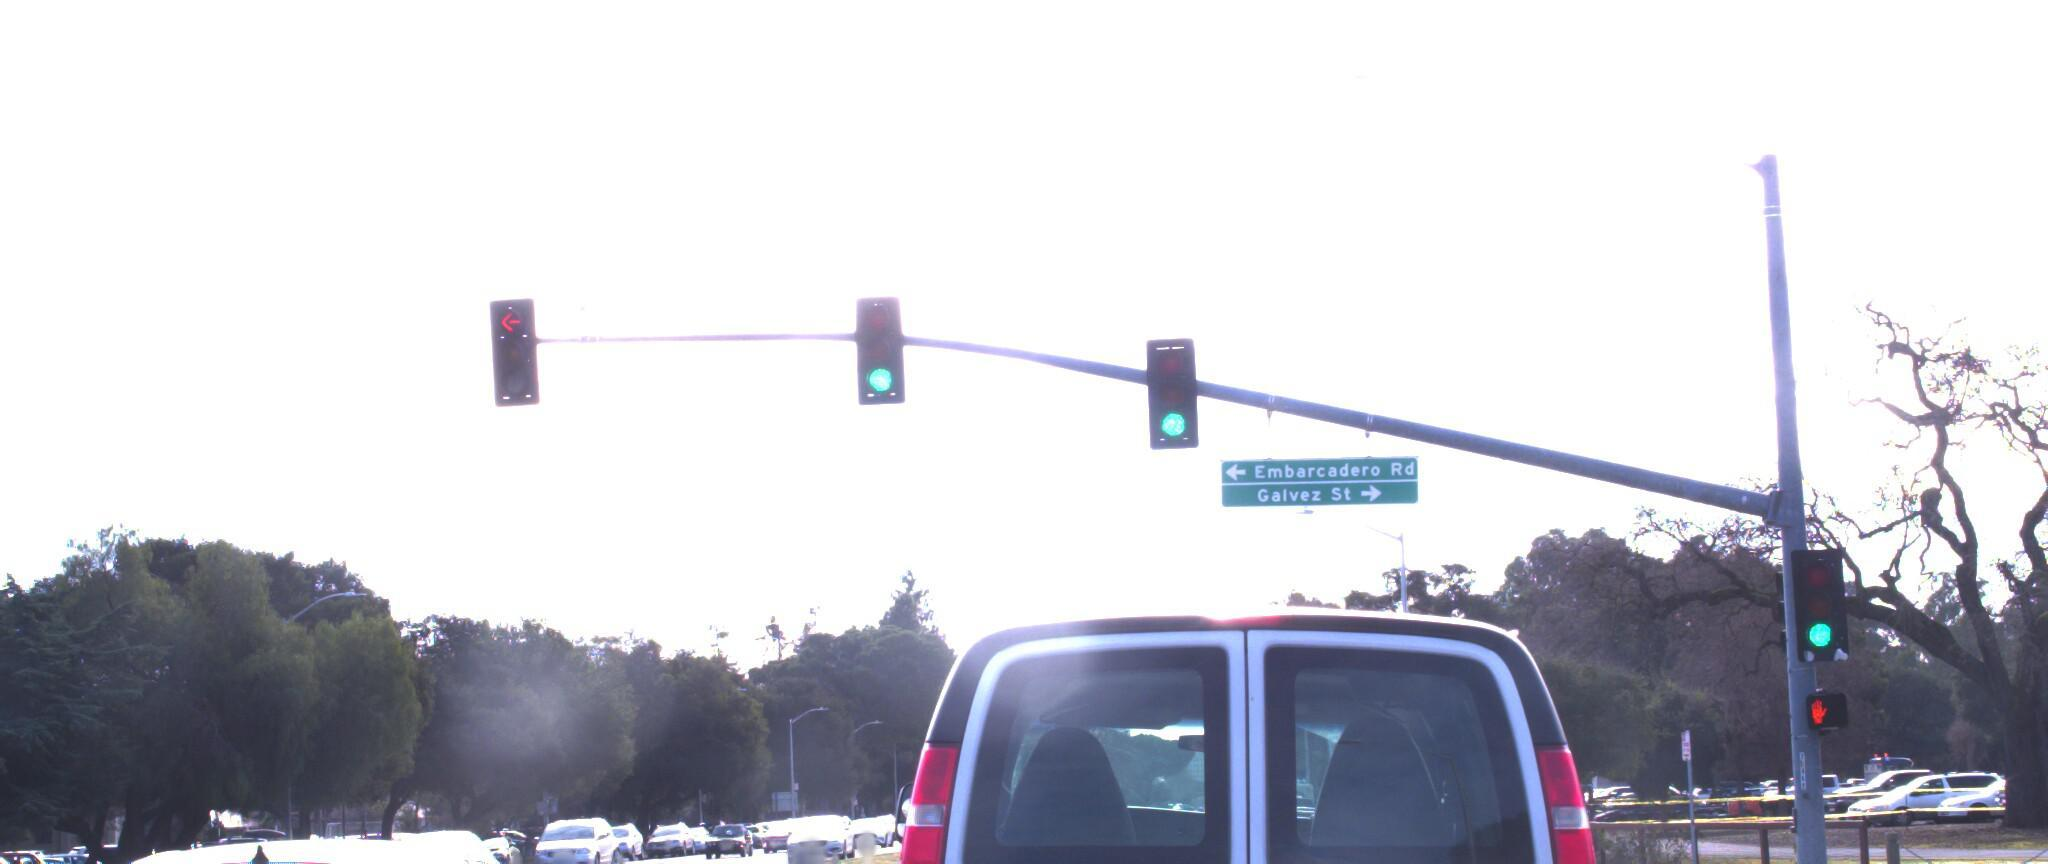car: (842, 589, 1642, 864), (0, 790, 682, 864)
